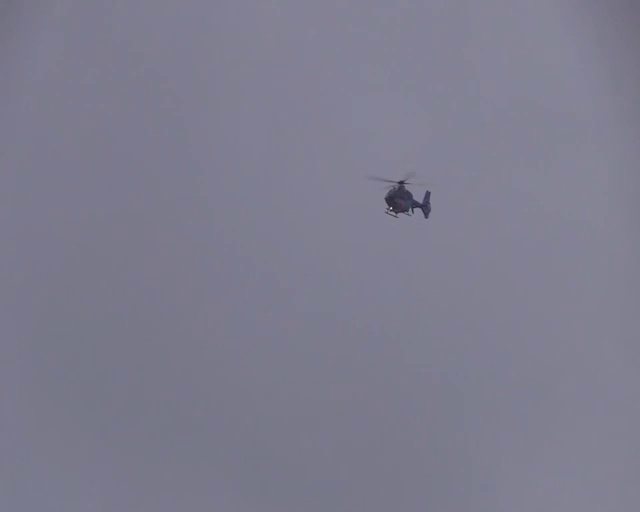HELICOPTER: (365, 169, 431, 219)
